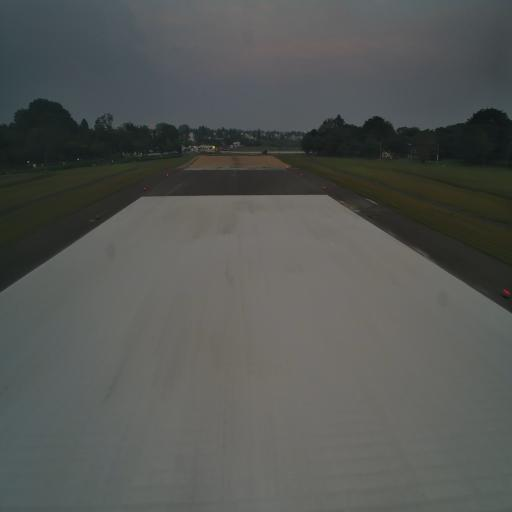off: (367, 211, 373, 220)
on: (501, 282, 512, 300), (95, 213, 100, 222), (142, 184, 146, 195), (322, 183, 327, 190)
